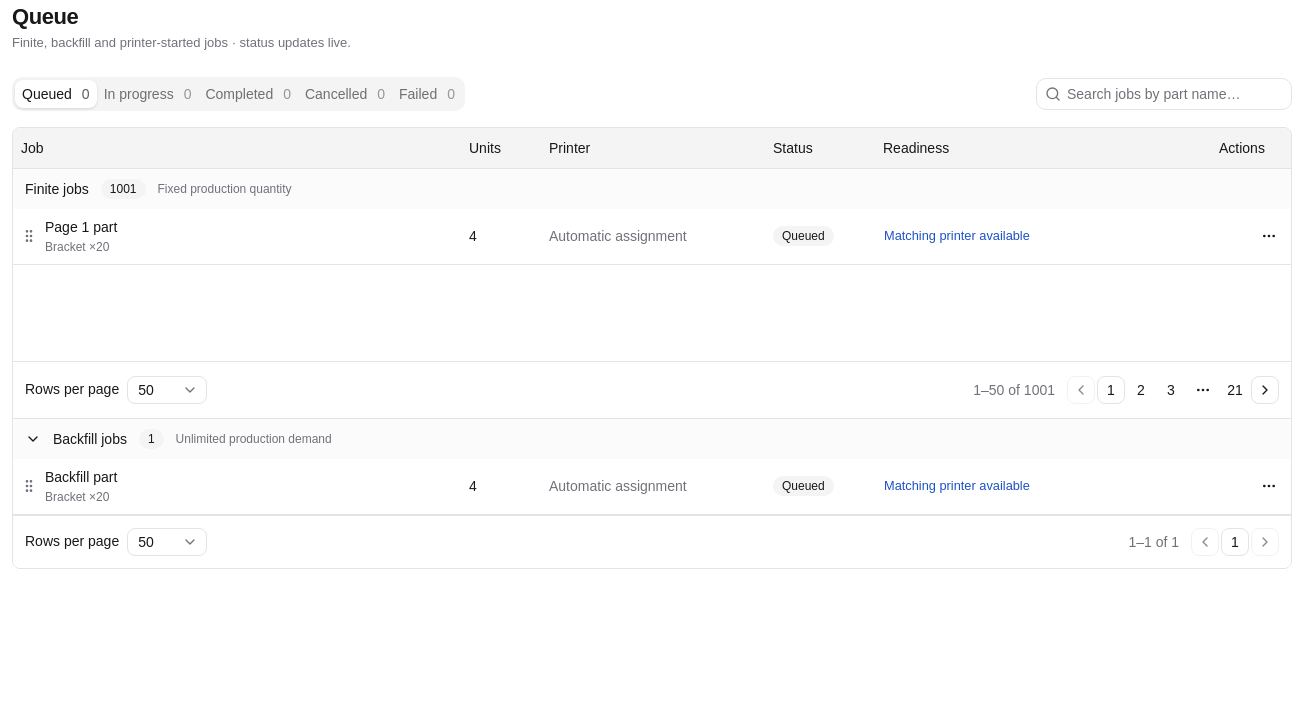
Test case: QueuePage › pages finite jobs independently of backfill in a thousand-job queue
Expected: the link "Page 1 part" is shown, [45,219,117,235]
Expected: the link "Backfill part" is shown, [45,469,117,485]
Click the button named "Next finite jobs page".
click(1265, 390)  # box [1251,376,1279,404]
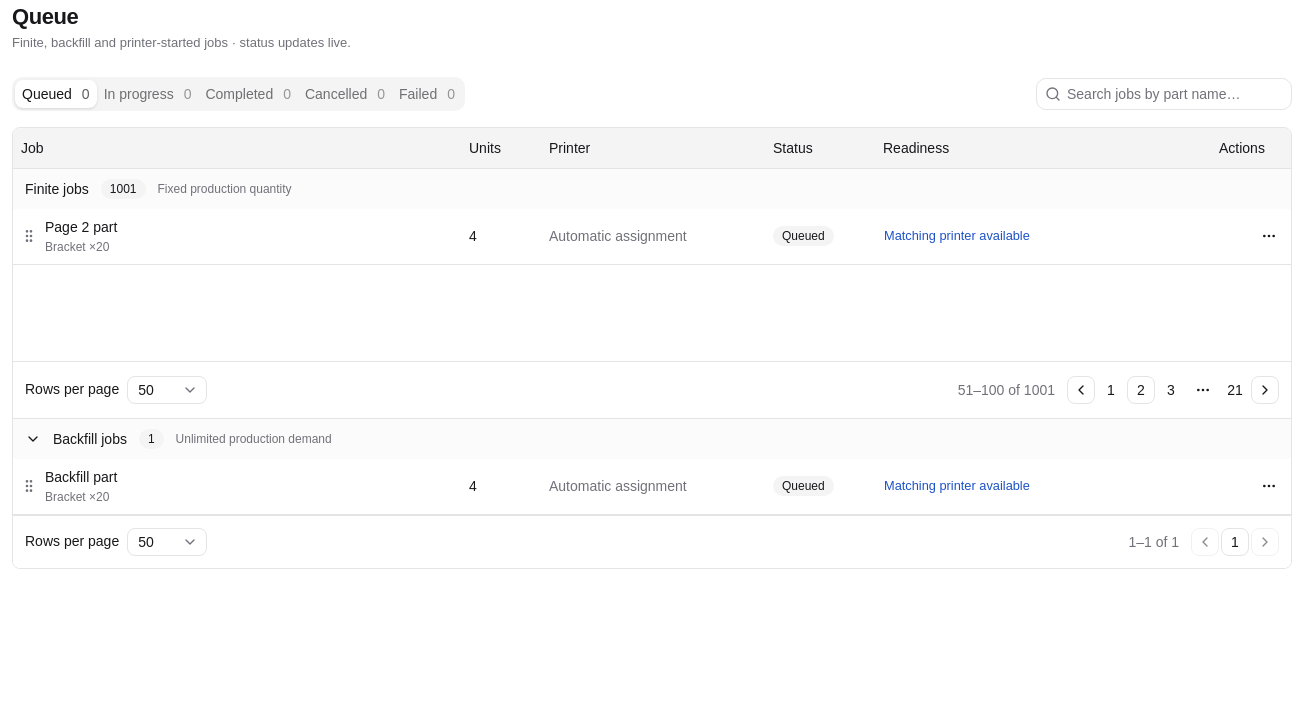
Expected: the link "Backfill part" is shown, [45,469,117,485]
Now the link "Page 2 part" is shown, box [45,219,117,235]
Now the text "51–100 of 1001" is shown, box [958,380,1055,400]
Click the button named "Previous finite jobs page".
click(1081, 390)  # box [1067,376,1095,404]
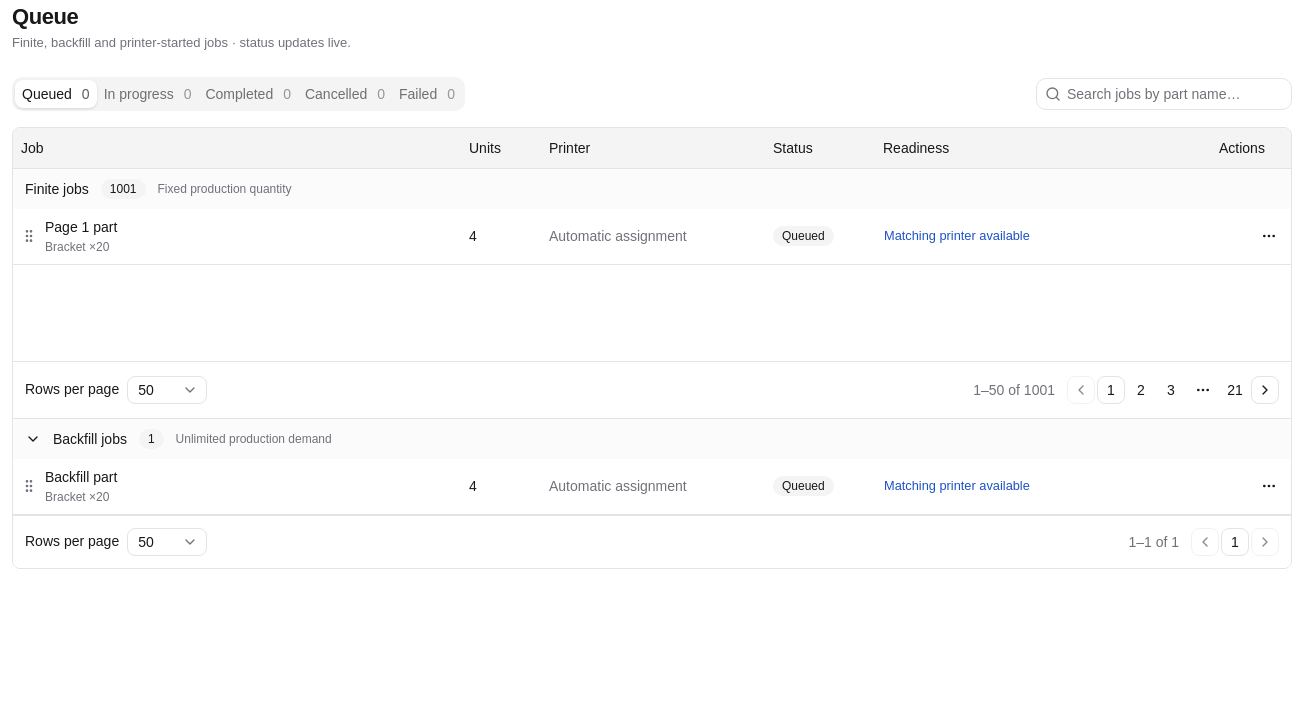
Now the link "Page 1 part" is shown, box [45,219,117,235]
